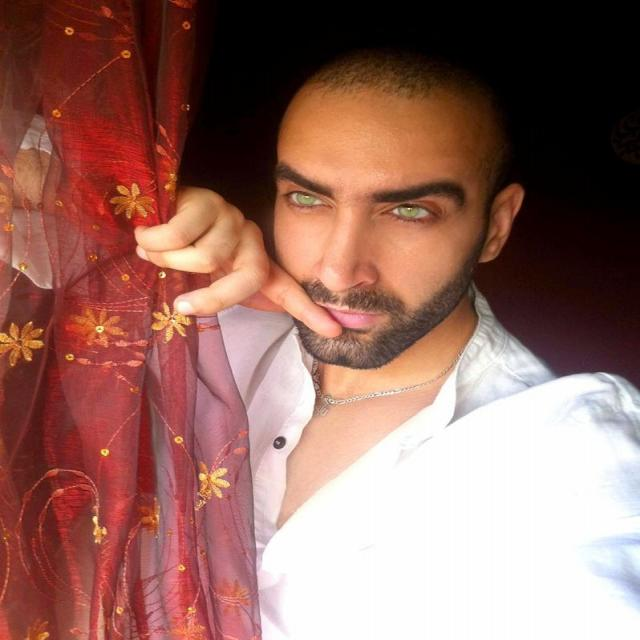earlobe: (477, 182, 525, 264)
